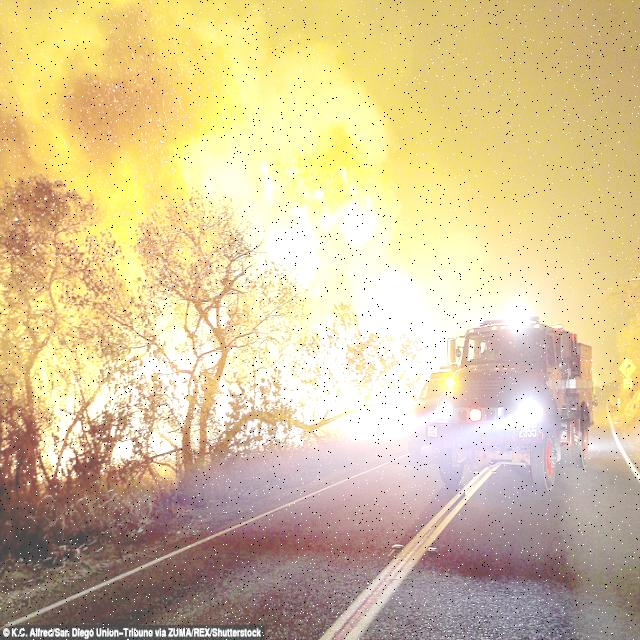api: (30, 287, 240, 487), (258, 258, 460, 457), (257, 162, 337, 292), (326, 164, 390, 264)
asap: (205, 1, 434, 247), (27, 1, 239, 231), (394, 138, 504, 345)
